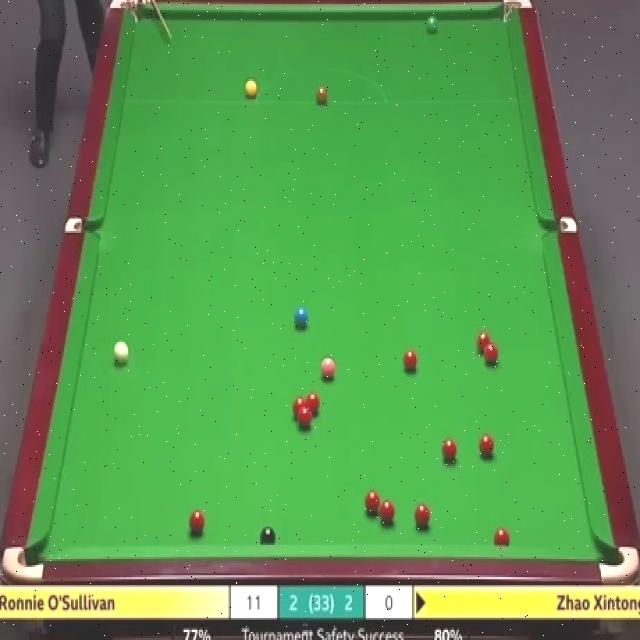black-ball: (259, 526, 278, 547)
blue-ball: (293, 306, 310, 328)
brown-ball: (316, 82, 328, 104)
green-ball: (425, 16, 439, 35)
pink-ball: (320, 358, 337, 382)
red-ball: (482, 339, 501, 366), (414, 504, 432, 531), (188, 508, 205, 536), (380, 497, 395, 527), (403, 347, 419, 374), (441, 438, 457, 465), (364, 491, 381, 516), (479, 433, 496, 458), (292, 397, 307, 422), (307, 392, 320, 417), (493, 527, 511, 544), (477, 330, 490, 352), (298, 410, 313, 429)
white-ball: (112, 340, 129, 366)
yellow-ball: (244, 81, 257, 98)
